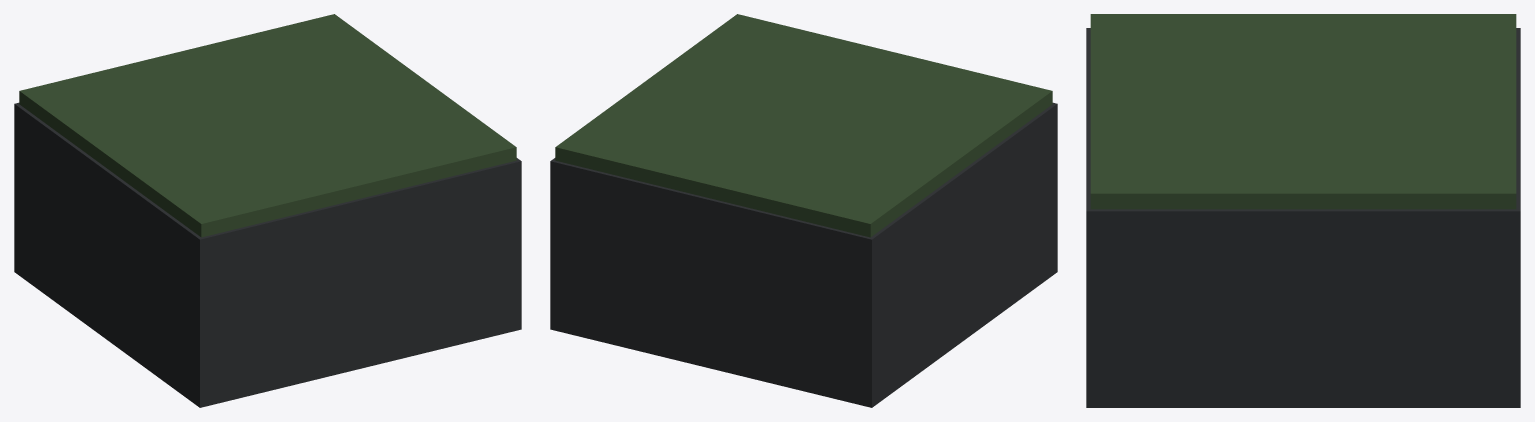
Rendered from grass-cliff.obj.
3 views of the same model, side by side, from view 1: azimuth 30°, elevation 25°; view 2: azimuth 150°, elevation 25°; view 3: azimuth 270°, elevation 25° (orthographic). The views are drawn at different scales.
Parts seen in each view (by area): view 1: grass-cliff_0, grass-cliff_1; view 2: grass-cliff_0, grass-cliff_1; view 3: grass-cliff_0, grass-cliff_1.
Part boxes in pixels (x1,y1,x2,y2): grass-cliff_0: (14,102,521,407); grass-cliff_1: (19,14,516,237); grass-cliff_0: (550,102,1057,407); grass-cliff_1: (555,14,1052,237); grass-cliff_0: (1086,28,1520,407); grass-cliff_1: (1090,14,1516,209).
Size of the model in its own units: 2 by 1.08 by 2.
